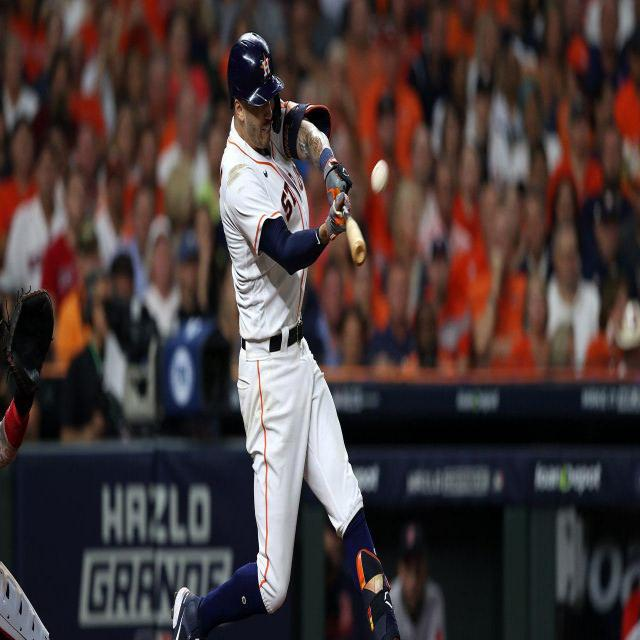baseball: (372, 159, 388, 197)
